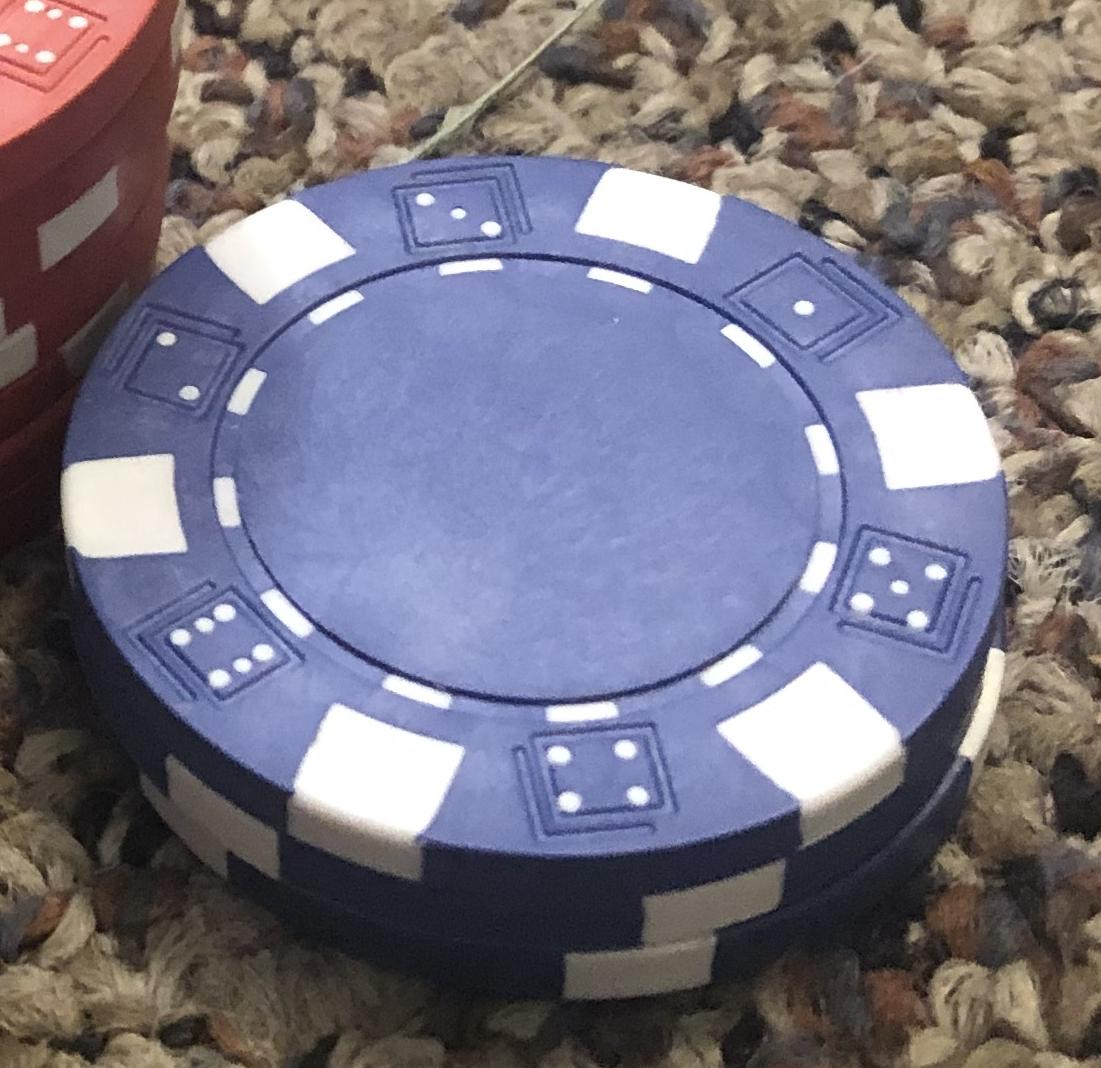Chip: (1, 1, 1101, 1068)
